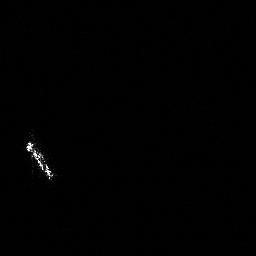ship: (21, 134, 59, 185)
